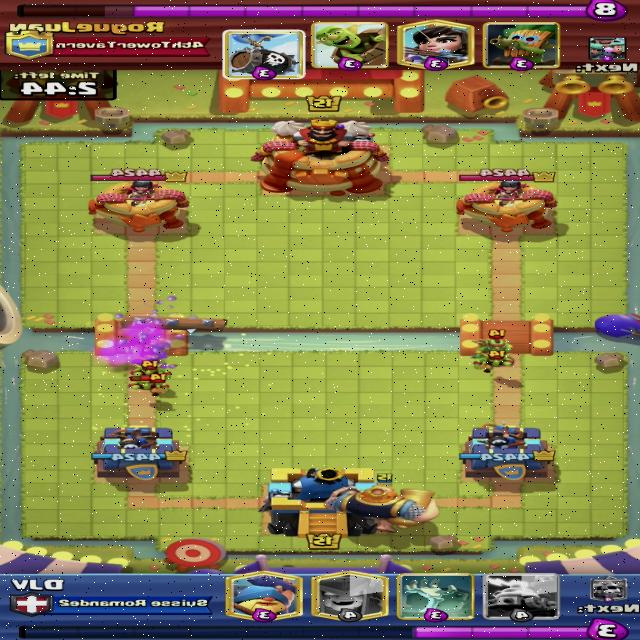Enemy-Goblin: (126, 371, 173, 397), (473, 346, 514, 373), (128, 359, 172, 383)
Enemy-SpearGoblin: (470, 329, 516, 358)
Player-GoblinDrill: (590, 39, 627, 66)
Player-Log: (116, 313, 230, 334)
Player-RoyalGiant: (326, 473, 440, 531)
